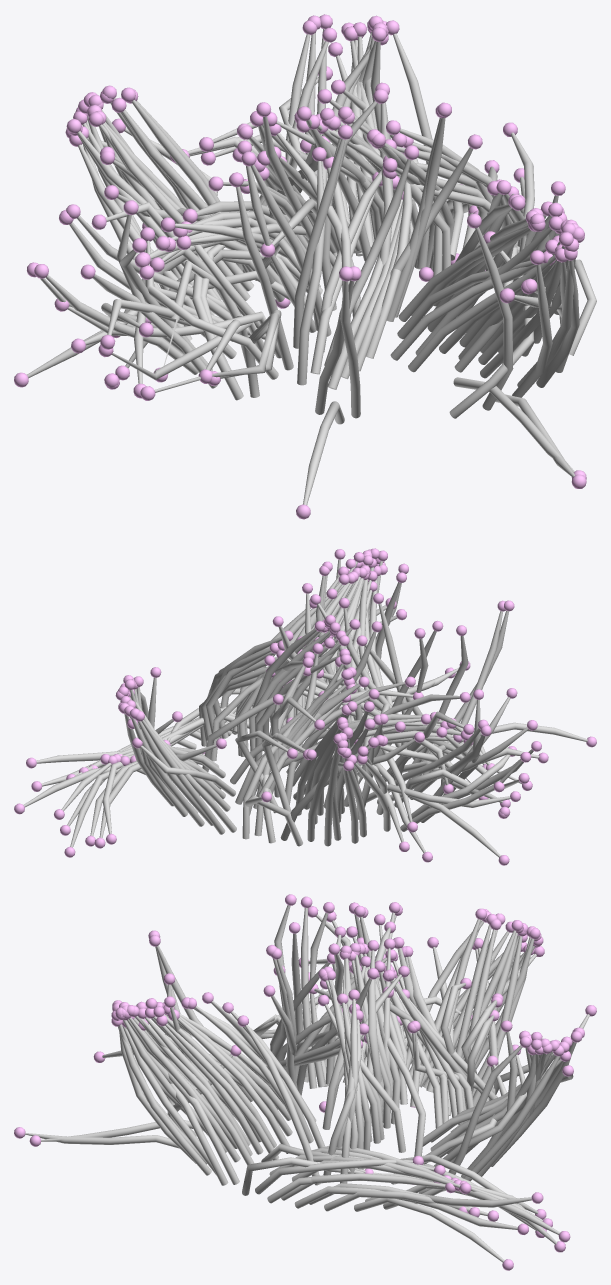
Rendered from Euphylia_tip.fbx.
3 views of the same model, one above another, from view 1: azimuth 30°, elevation 25°; view 2: azimuth 150°, elevation 25°; view 3: azimuth 270°, elevation 25° (orthographic). The views are drawn at different scales.
Parts seen in each view (by area): view 1: Euphylia_tips; view 2: Euphylia_tips; view 3: Euphylia_tips.
Boxes of the visible parts, bbox=[...] form: Euphylia_tips: bbox=[14, 14, 596, 519]; Euphylia_tips: bbox=[14, 548, 596, 865]; Euphylia_tips: bbox=[14, 894, 596, 1270].
Size of the model in its own units: 43.1 by 21.76 by 46.83.
